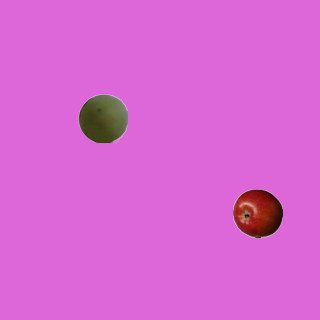Apple Braeburn: (232, 188, 282, 238)
Grape White 4: (77, 93, 127, 143)
